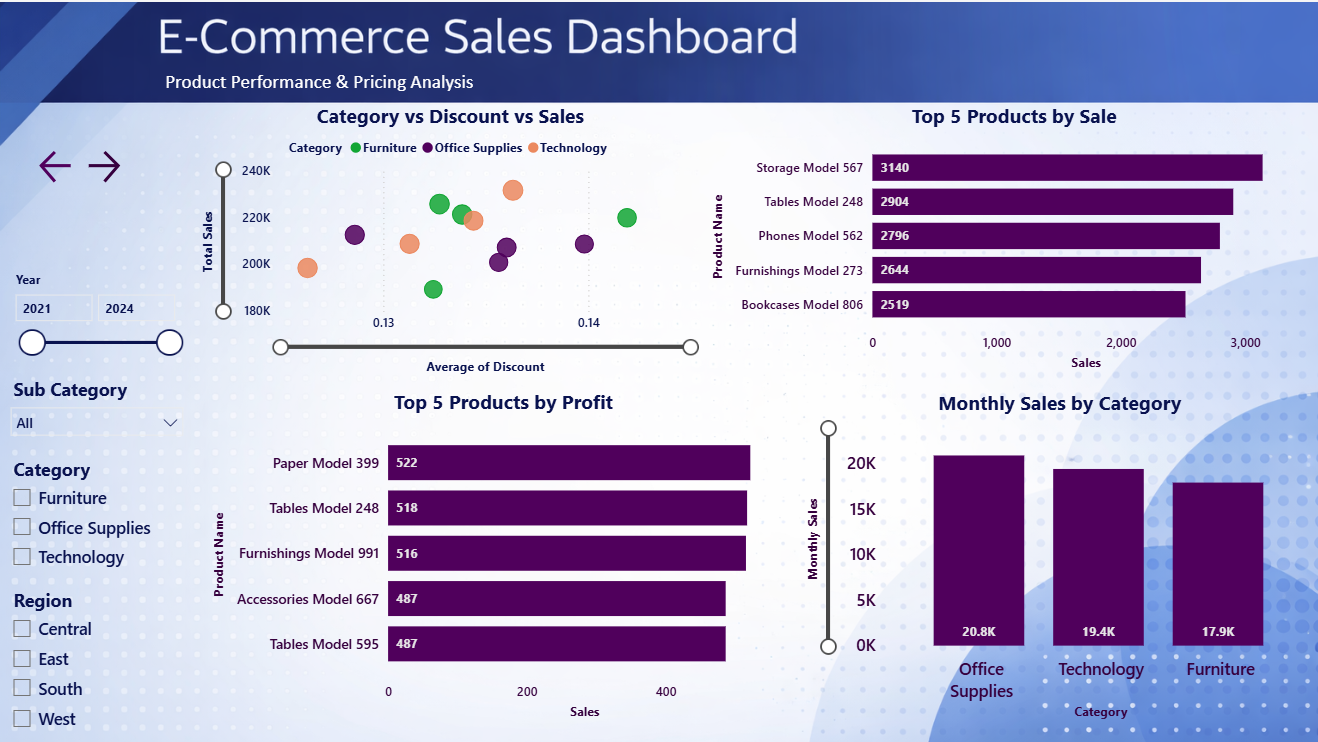

This screenshot's page, from the dashboard's own definition file:
{"tool":"powerbi","page":{"name":"Product Analysis","canvas":[1280,720],"ordinal":1},"visuals":[{"type":"clusteredBarChart","title":"Top 5 Products by Sale","fields":{"Category":["Dim_Product.Product Name"],"Y":["Measures_Table.Total Sales"]},"box":[685.1,96.8,594.4,265.1],"z":0},{"type":"scatterChart","title":"Category vs Discount vs Sales","fields":{"X":["Avg(Fact_Sales.Discount)"],"Series":["Dim_Product.Category"],"Category":["Dim_Product.Sub Category"],"Size":["Measures_Table.Total Profit"],"Y":["Measures_Table.Total Sales"]},"box":[187.8,96.4,497.4,265.2],"z":1000},{"type":"clusteredColumnChart","title":"Monthly Sales by Category","fields":{"Y":["Measures_Table.Monthly Sales"],"Category":["Dim_Product.Category"]},"box":[773.5,375.3,506,324.4],"z":2000},{"type":"textbox","box":[154.9,60.5,485.4,33.9],"z":3000},{"type":"slicer","fields":{"Values":["Dim_Product.Category"]},"box":[0,435.8,187.6,127.1],"z":4000},{"type":"slicer","fields":{"Values":["Dim_Product.Sub Category"]},"box":[0,358.3,187.6,82.3],"z":5000},{"type":"slicer","fields":{"Values":["Dim_Region.Region"]},"box":[0,562.9,187.6,157.4],"z":6000},{"type":"actionButton","box":[79.9,139.6,55.8,40.6],"z":7000},{"type":"actionButton","box":[34.3,139.6,45.7,40.6],"z":8000},{"type":"slicer","fields":{"Values":["Dim_Date.Year"]},"box":[2.5,255,182.7,102.8],"z":9000},{"type":"clusteredBarChart","title":"Top 5 Products by Profit","fields":{"Category":["Dim_Product.Product Name"],"Y":["Measures_Table.Total Profit"]},"box":[202.2,374,571.4,325.6],"z":10000}]}

Visuals, with their boxes in screenshot pixels (x1, y1, x2, y2), scaled from the page's 1280x720 canvas onto the 1318x742 screenshot:
"Top 5 Products by Sale" clusteredBarChart: [705,100,1317,373]
"Category vs Discount vs Sales" scatterChart: [193,99,706,373]
"Monthly Sales by Category" clusteredColumnChart: [796,387,1317,721]
textbox: [159,62,659,97]
slicer - Dim_Product.Category: [0,449,193,580]
slicer - Dim_Product.Sub Category: [0,369,193,454]
slicer - Dim_Region.Region: [0,580,193,741]
actionButton: [82,144,140,186]
actionButton: [35,144,82,186]
slicer - Dim_Date.Year: [3,263,191,369]
"Top 5 Products by Profit" clusteredBarChart: [208,385,797,721]
